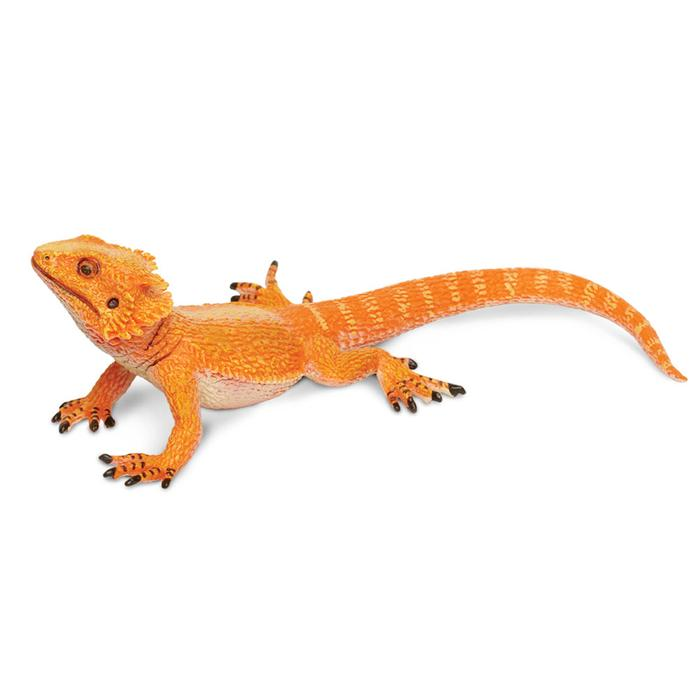bearded: (30, 232, 689, 495)
